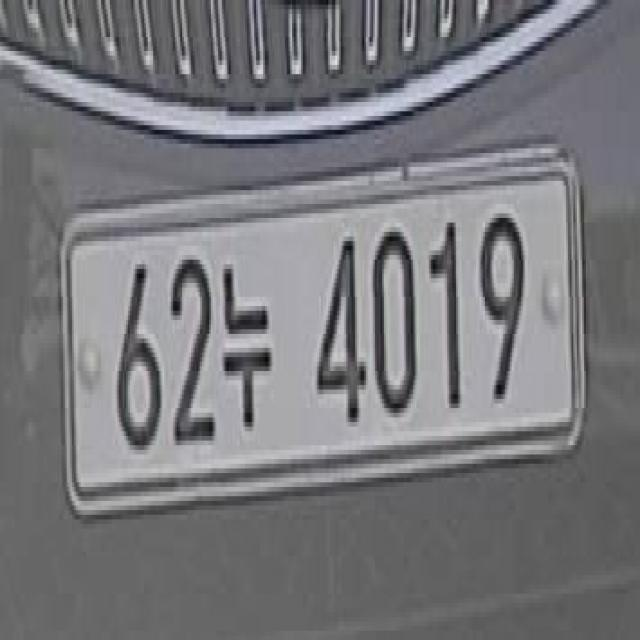0: (373, 218, 418, 428)
1: (425, 217, 470, 418)
2: (168, 242, 216, 456)
4: (312, 220, 369, 442)
6: (110, 250, 163, 450)
9: (474, 196, 528, 410)
license_plate: (50, 126, 606, 555)
nu: (220, 245, 274, 450)
